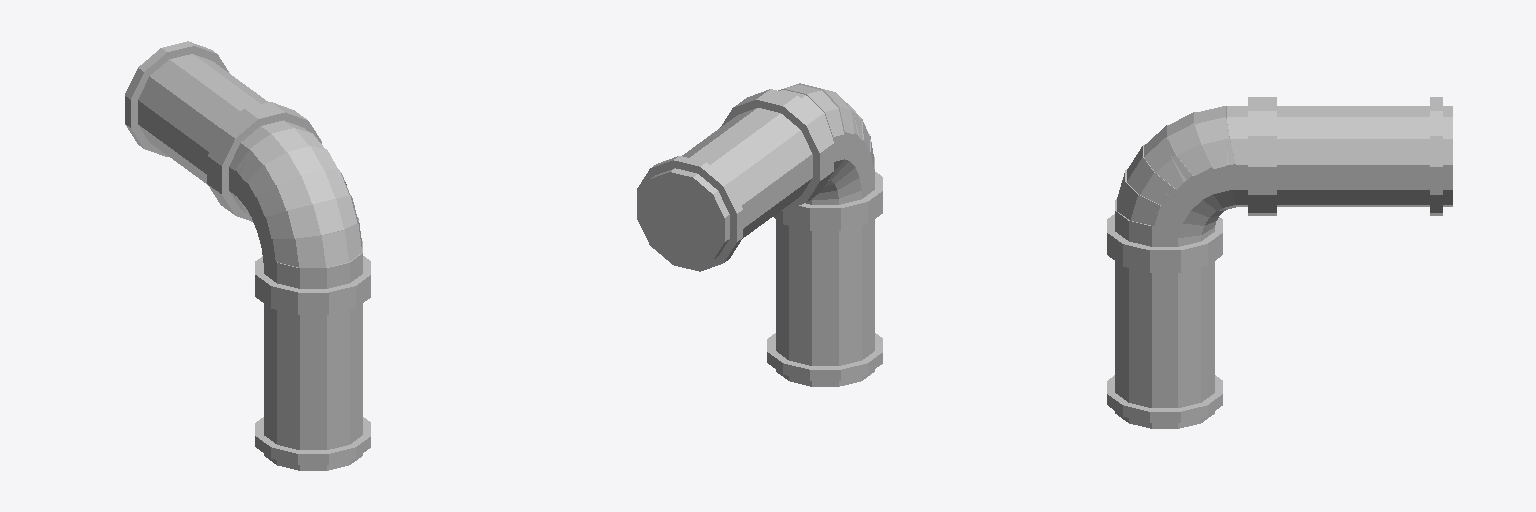
Rendered from CurvePipe1.obj.
The picture shows the model from 3 angles: view 1: azimuth 30°, elevation 25°; view 2: azimuth 150°, elevation 25°; view 3: azimuth 270°, elevation 25°; orthographic projection.
Visible parts, largest first — view 1: Body, cylinder, Joint; view 2: Body, Joint, cylinder; view 3: Body, cylinder, Joint.
Part boxes in pixels (bbox=[...]): Body: bbox=[138, 54, 362, 470]; cylinder: bbox=[214, 107, 370, 303]; Joint: bbox=[125, 41, 370, 464]; Body: bbox=[639, 108, 874, 386]; Joint: bbox=[637, 95, 882, 380]; cylinder: bbox=[740, 83, 882, 219]; Body: bbox=[1115, 106, 1452, 428]; cylinder: bbox=[1107, 97, 1263, 261]; Joint: bbox=[1107, 97, 1442, 422].
Size of the model in its own units: 0.875 by 2.53 by 2.61.